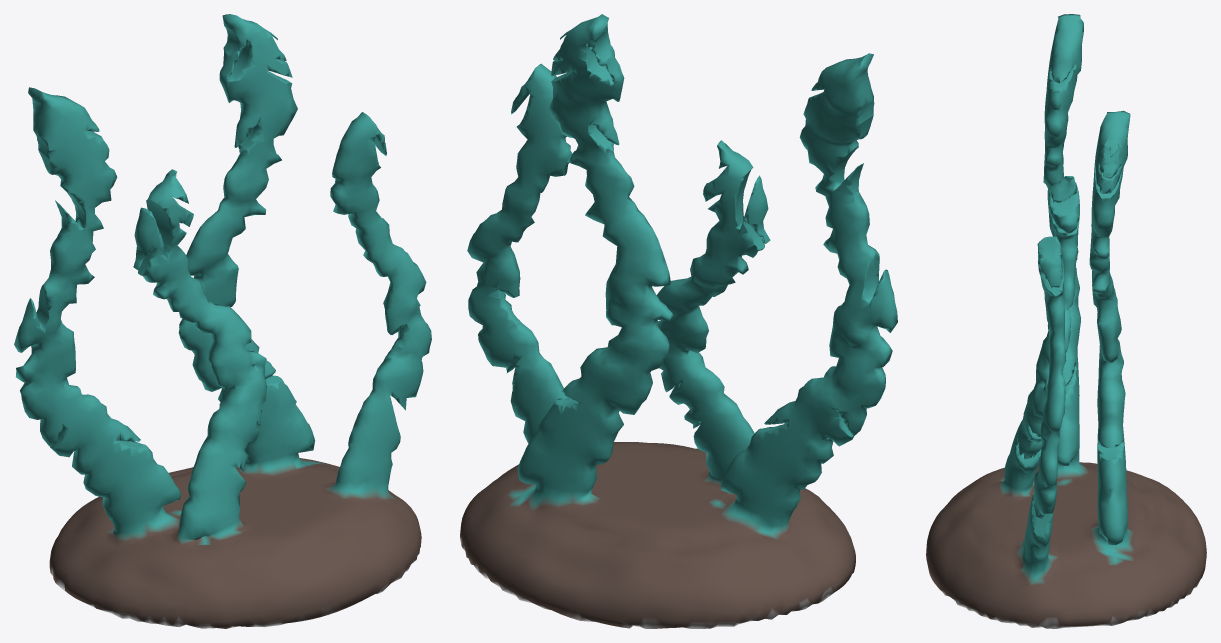
The model's file is Plante_marine_1.glb.
3 renders of one model, left to right at view 1: azimuth 30°, elevation 25°; view 2: azimuth 150°, elevation 25°; view 3: azimuth 270°, elevation 25°, orthographic. The views are drawn at different scales.
Parts seen in each view (by area): view 1: Tube 3; view 2: Tube 3; view 3: Tube 3.
Part boxes in pixels (<box>): Tube 3: <box>14,14,431,628</box>; Tube 3: <box>460,14,897,628</box>; Tube 3: <box>926,14,1206,628</box>.
Size of the model in its own units: 1.21 by 1.49 by 0.813.
